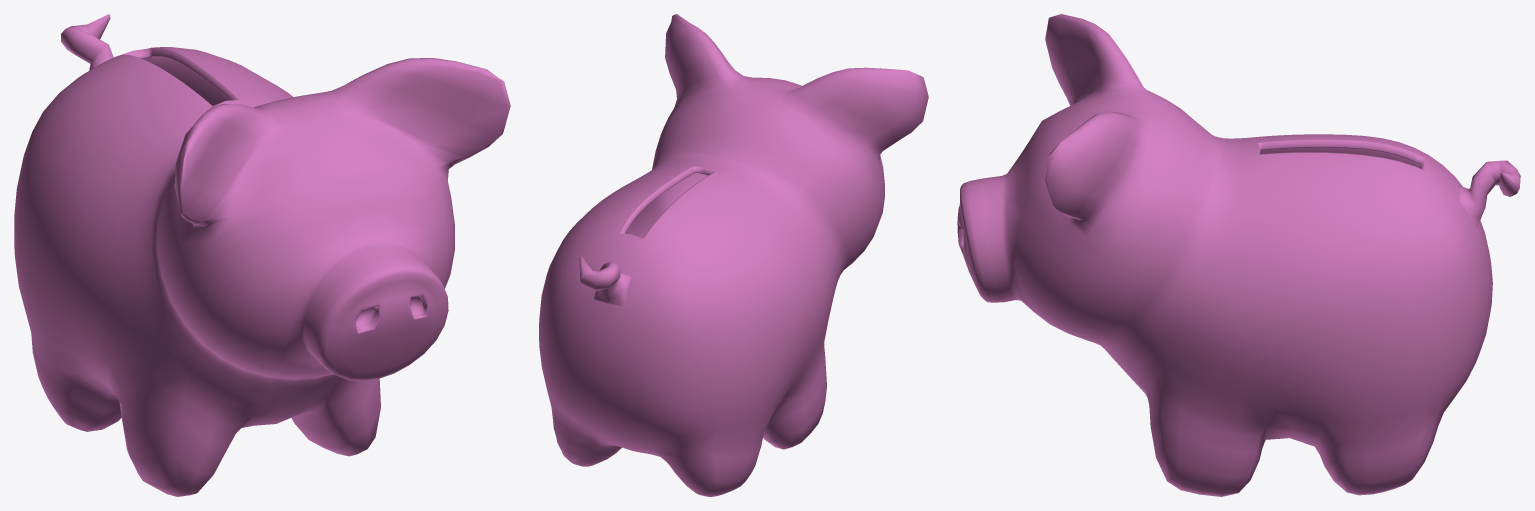
Rendered from piggy_bank.fbx.
3 views of the same model, side by side, from view 1: azimuth 30°, elevation 25°; view 2: azimuth 150°, elevation 25°; view 3: azimuth 270°, elevation 25° (orthographic). The views are drawn at different scales.
Visible parts, largest first — view 1: PIG; view 2: PIG; view 3: PIG.
Part boxes in pixels (x1,y1,x2,y2): PIG: (14, 14, 510, 496); PIG: (539, 14, 928, 496); PIG: (957, 14, 1520, 496).
Size of the model in its own units: 9.31 by 11.66 by 15.44.
